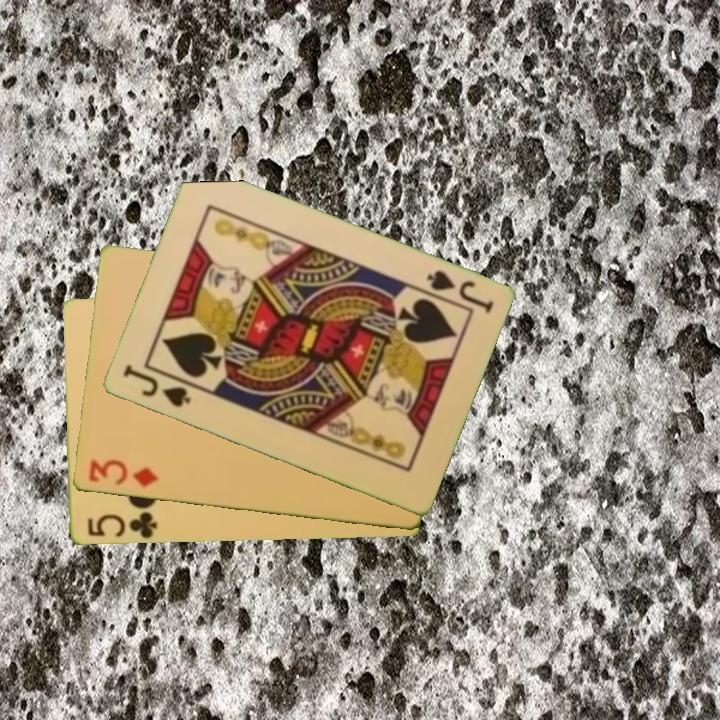3d: (85, 456, 161, 491)
5c: (83, 505, 160, 541)
Js: (422, 266, 496, 317), (119, 361, 193, 411)
